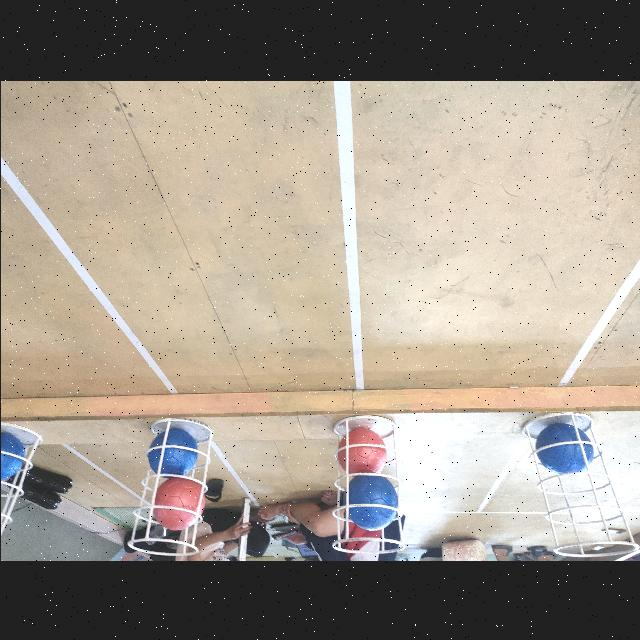B: (534, 422, 592, 474), (342, 476, 398, 528), (149, 428, 199, 478), (1, 430, 26, 480)
R: (152, 476, 205, 530), (338, 428, 384, 477)
